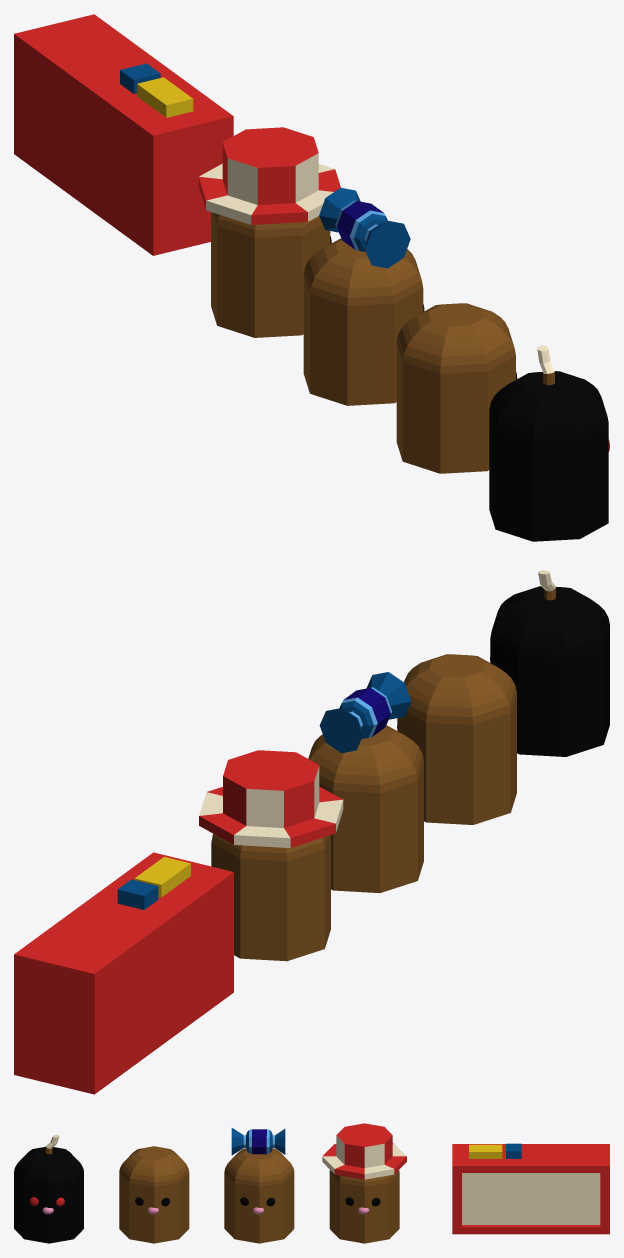
Rendered from moles_alarmclock.fbx.
3 renders of one model, top to bottom at view 1: azimuth 30°, elevation 25°; view 2: azimuth 150°, elevation 25°; view 3: azimuth 270°, elevation 25°, orthographic. The views are drawn at different scales.
Parts seen in each view (by area): view 1: alarm_thing, Cylinder.006, Cylinder.004, Cylinder.005, Cylinder, Cylinder.002, Cylinder.003, Cylinder.001; view 2: alarm_thing, Cylinder.006, Cylinder.004, Cylinder.005, Cylinder, Cylinder.002, Cylinder.003, Cylinder.001; view 3: alarm_thing, Cylinder.006, Cylinder.004, Cylinder.005, Cylinder, Cylinder.002, Cylinder.001, Cylinder.003.
Part boxes in pixels (x1,y1,x2,y2): alarm_thing: (14, 14, 233, 255); Cylinder.006: (489, 345, 608, 541); Cylinder.004: (396, 303, 515, 473); Cylinder.005: (303, 238, 423, 405); Cylinder: (211, 212, 330, 337); Cylinder.002: (222, 127, 318, 204); Cylinder.003: (319, 187, 410, 268); Cylinder.001: (198, 163, 340, 224); alarm_thing: (14, 852, 233, 1094); Cylinder.006: (490, 570, 609, 756); Cylinder.004: (397, 654, 516, 824); Cylinder.005: (308, 725, 423, 892); Cylinder: (211, 834, 330, 961); Cylinder.002: (223, 750, 319, 827); Cylinder.003: (319, 672, 411, 753); Cylinder.001: (199, 786, 343, 847); alarm_thing: (452, 1143, 609, 1234); Cylinder.006: (14, 1134, 83, 1243); Cylinder.004: (119, 1146, 189, 1243); Cylinder.005: (224, 1148, 294, 1243); Cylinder: (329, 1170, 399, 1243); Cylinder.002: (336, 1123, 392, 1168); Cylinder.001: (322, 1143, 406, 1179); Cylinder.003: (231, 1128, 285, 1155).
Bounding box in the file's own units: 96.41 × 127 × 680.
